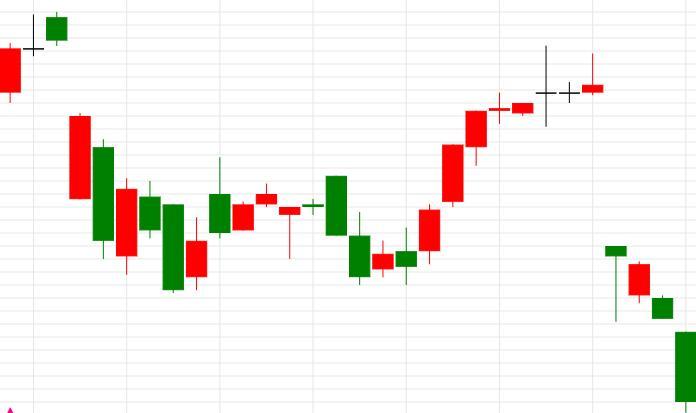three_white_soldiers_rise: (325, 110, 486, 286)
